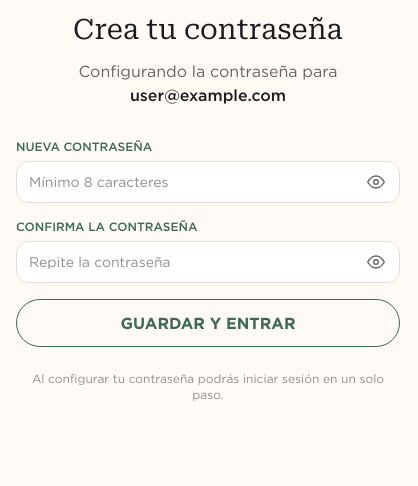
Test: SetPasswordPage › submit error handling › shows weak password error message
The image size is (418, 486).
Type "Password1!" into the password field labelled "Nueva contraseña" at (208, 182), box [16, 161, 400, 203]
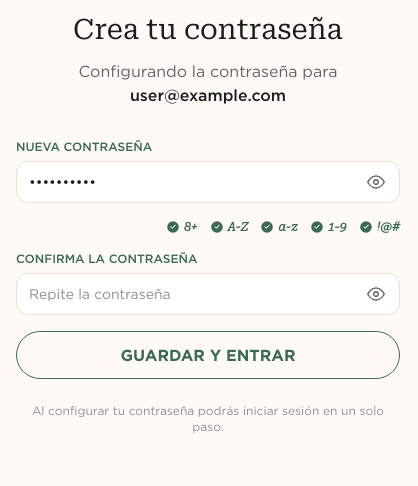
Type "Password1!" into the password field labelled "Confirma la contraseña" at (208, 294), box [16, 273, 400, 315]
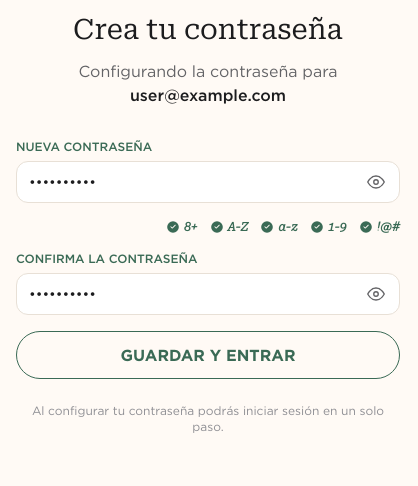
Submit the form, box [16, 139, 400, 379]
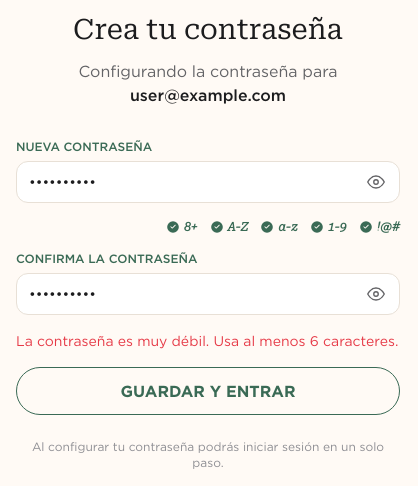
Now the text "La contraseña es muy débil. Usa al menos 6 caracteres." is shown, box [16, 331, 400, 351]
